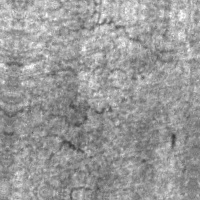crazing: (45, 6, 183, 91), (34, 91, 114, 198)
